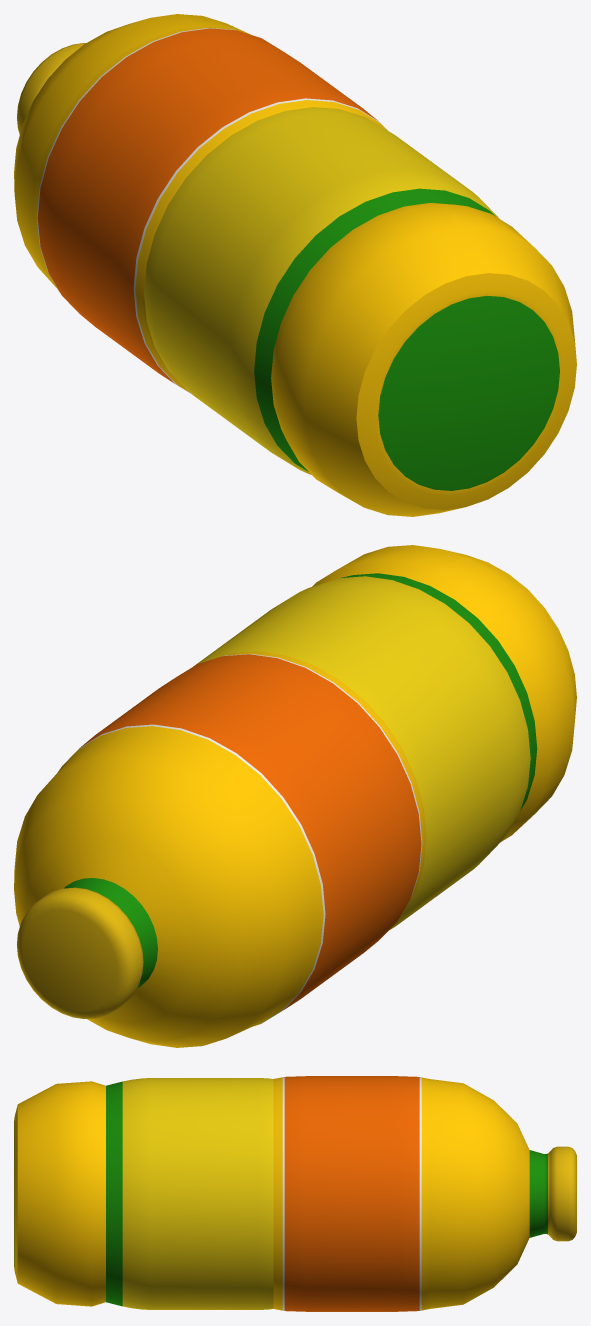
Rendered from sodaFanta.fbx.
3 views of the same model, one above another, from view 1: azimuth 30°, elevation 25°; view 2: azimuth 150°, elevation 25°; view 3: azimuth 270°, elevation 25° (orthographic). The views are drawn at different scales.
Visible parts, largest first — view 1: Fanta, Soda; view 2: Fanta, Soda; view 3: Fanta, Soda.
Part boxes in pixels (box(x1,y1,x2,y2)): Fanta: box(14, 14, 576, 516); Soda: box(17, 43, 559, 490); Fanta: box(14, 545, 576, 1047); Soda: box(17, 573, 537, 1018); Fanta: box(14, 1076, 529, 1311); Soda: box(14, 1078, 576, 1309).
Size of the model in its own units: 40.67 by 40.67 by 97.03.
1 material, 1 textured.
